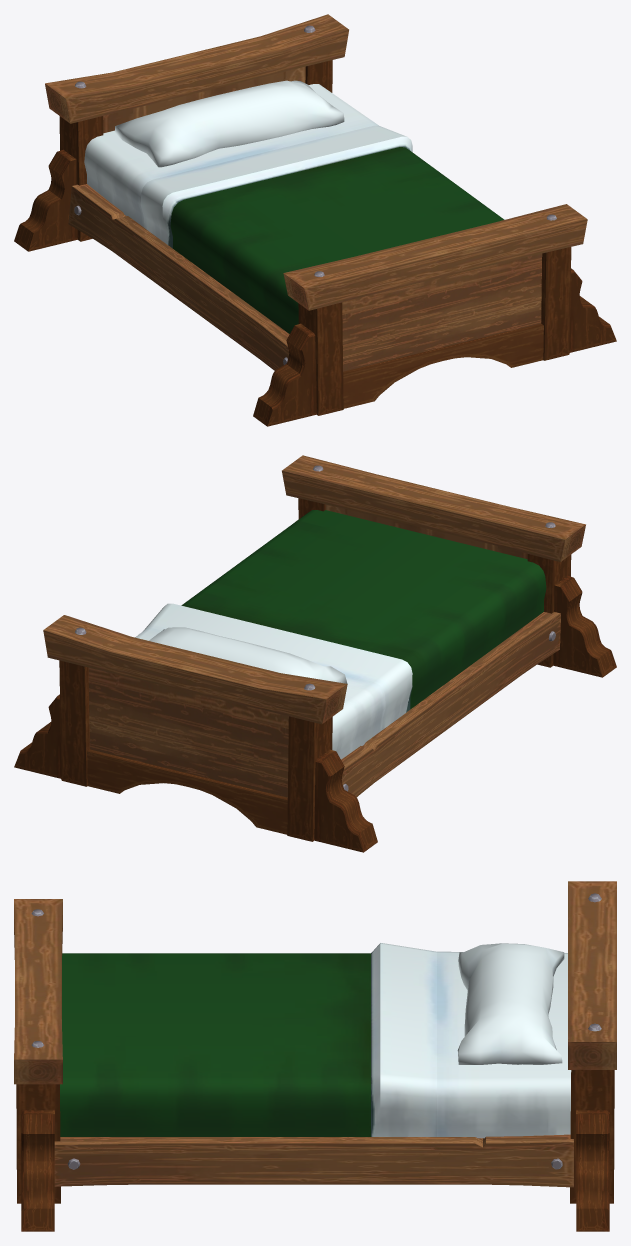
The model's file is Bed_Twin2.glb.
3 renders of one model, top to bottom at view 1: azimuth 30°, elevation 25°; view 2: azimuth 150°, elevation 25°; view 3: azimuth 270°, elevation 25°, orthographic. The views are drawn at different scales.
Visible parts, largest first — view 1: Bed_Twin2; view 2: Bed_Twin2; view 3: Bed_Twin2.
Boxes of the visible parts, x1,y1,x2,y2 form: Bed_Twin2: (14, 14, 616, 426); Bed_Twin2: (14, 455, 616, 852); Bed_Twin2: (14, 881, 616, 1231).
Bounding box in the file's own units: 1.88 × 0.7597 × 2.41.
Materials: 3 (3 with a texture image).
